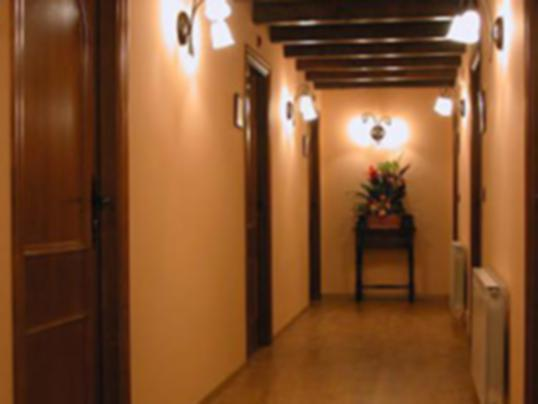Puerta: (12, 0, 127, 404), (246, 49, 269, 346), (524, 0, 538, 404)
